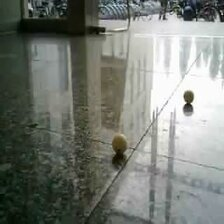w: (111, 133, 129, 156), (183, 89, 195, 105)
